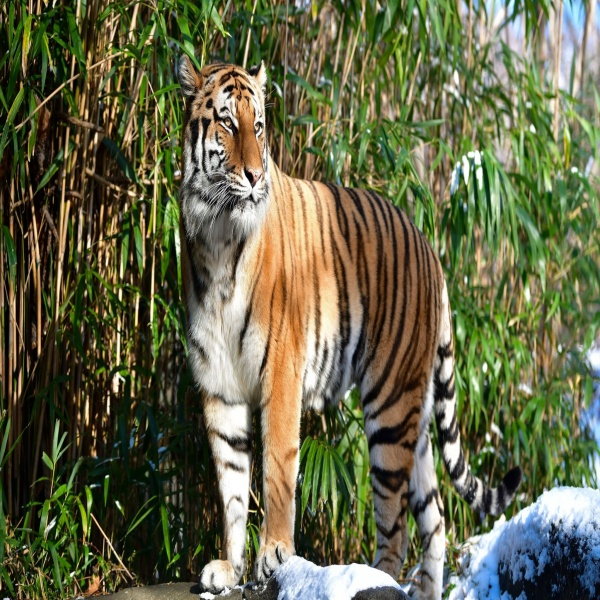Tiger: (169, 50, 525, 600)
